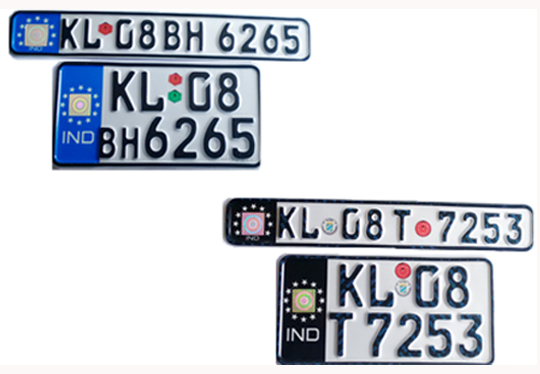number_plate: (275, 253, 496, 367), (52, 62, 263, 169), (224, 197, 537, 253), (8, 6, 311, 62)
